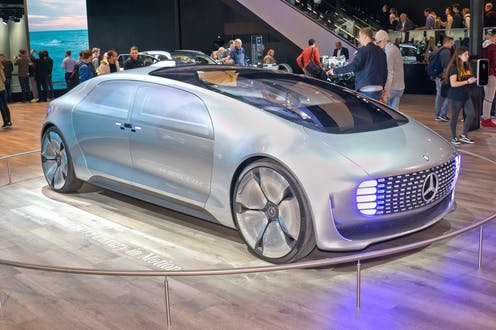car: (39, 60, 464, 264)
